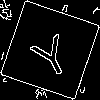Y: (25, 25, 75, 81)
